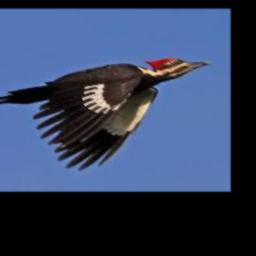Woodpecker: (0, 57, 210, 170)
